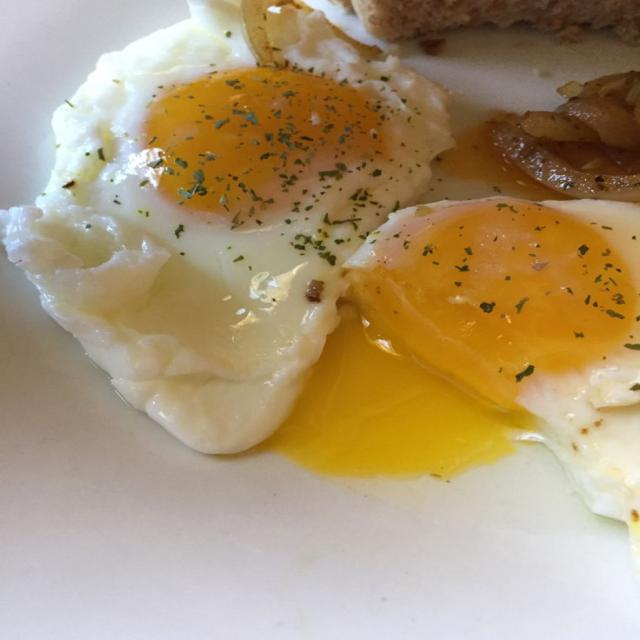fryed egg: (2, 0, 451, 452), (347, 198, 639, 539)
